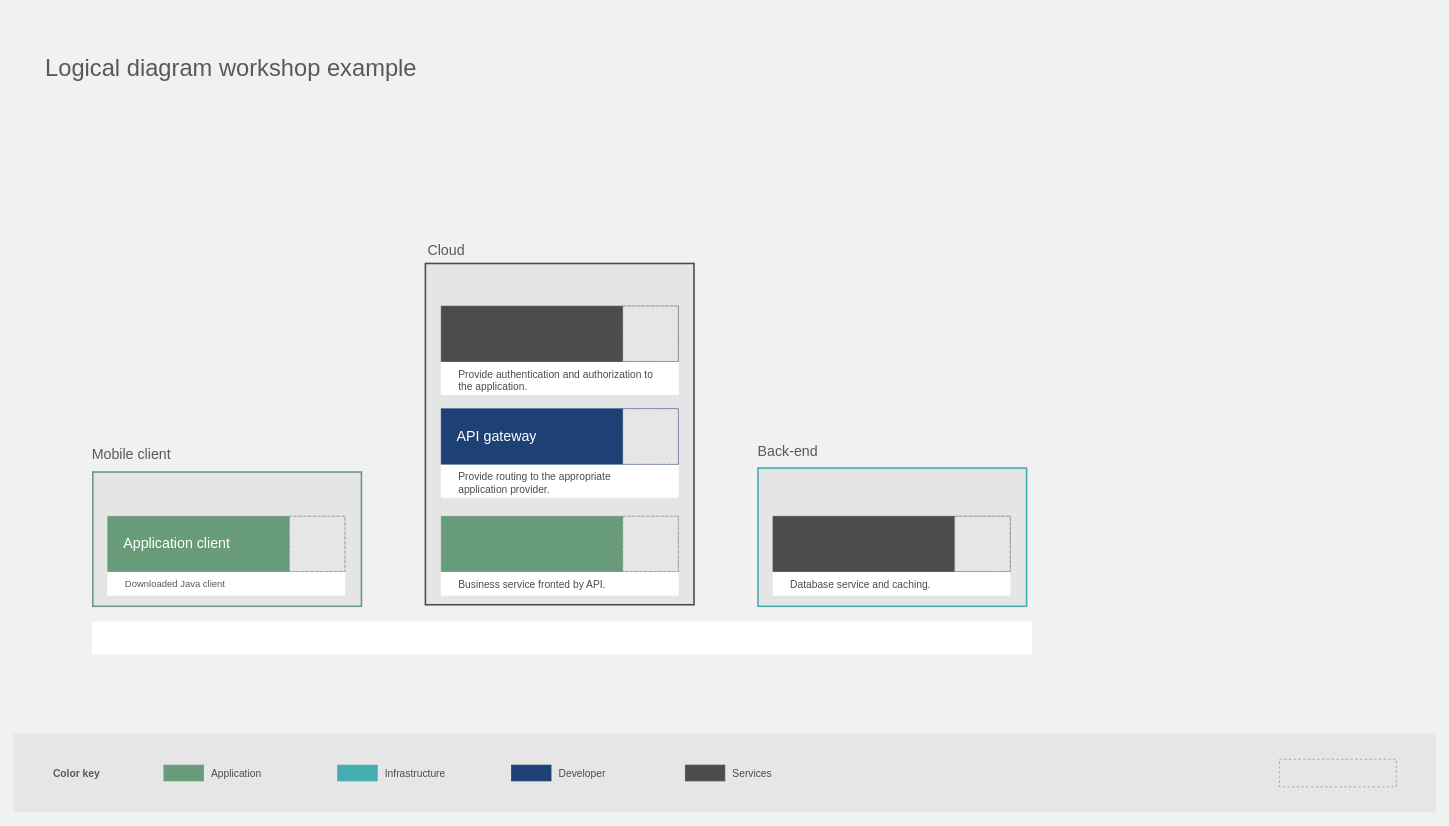
This 1449x826 diagram has some shape labels left out. Grey dashed boxes stand in for pictures. The centre of each missing label's shape, as x and y in pixels:
Authentication: point 559,333
Business application: point 559,543
Control plane/management: point 562,637
Data store: point 891,543
